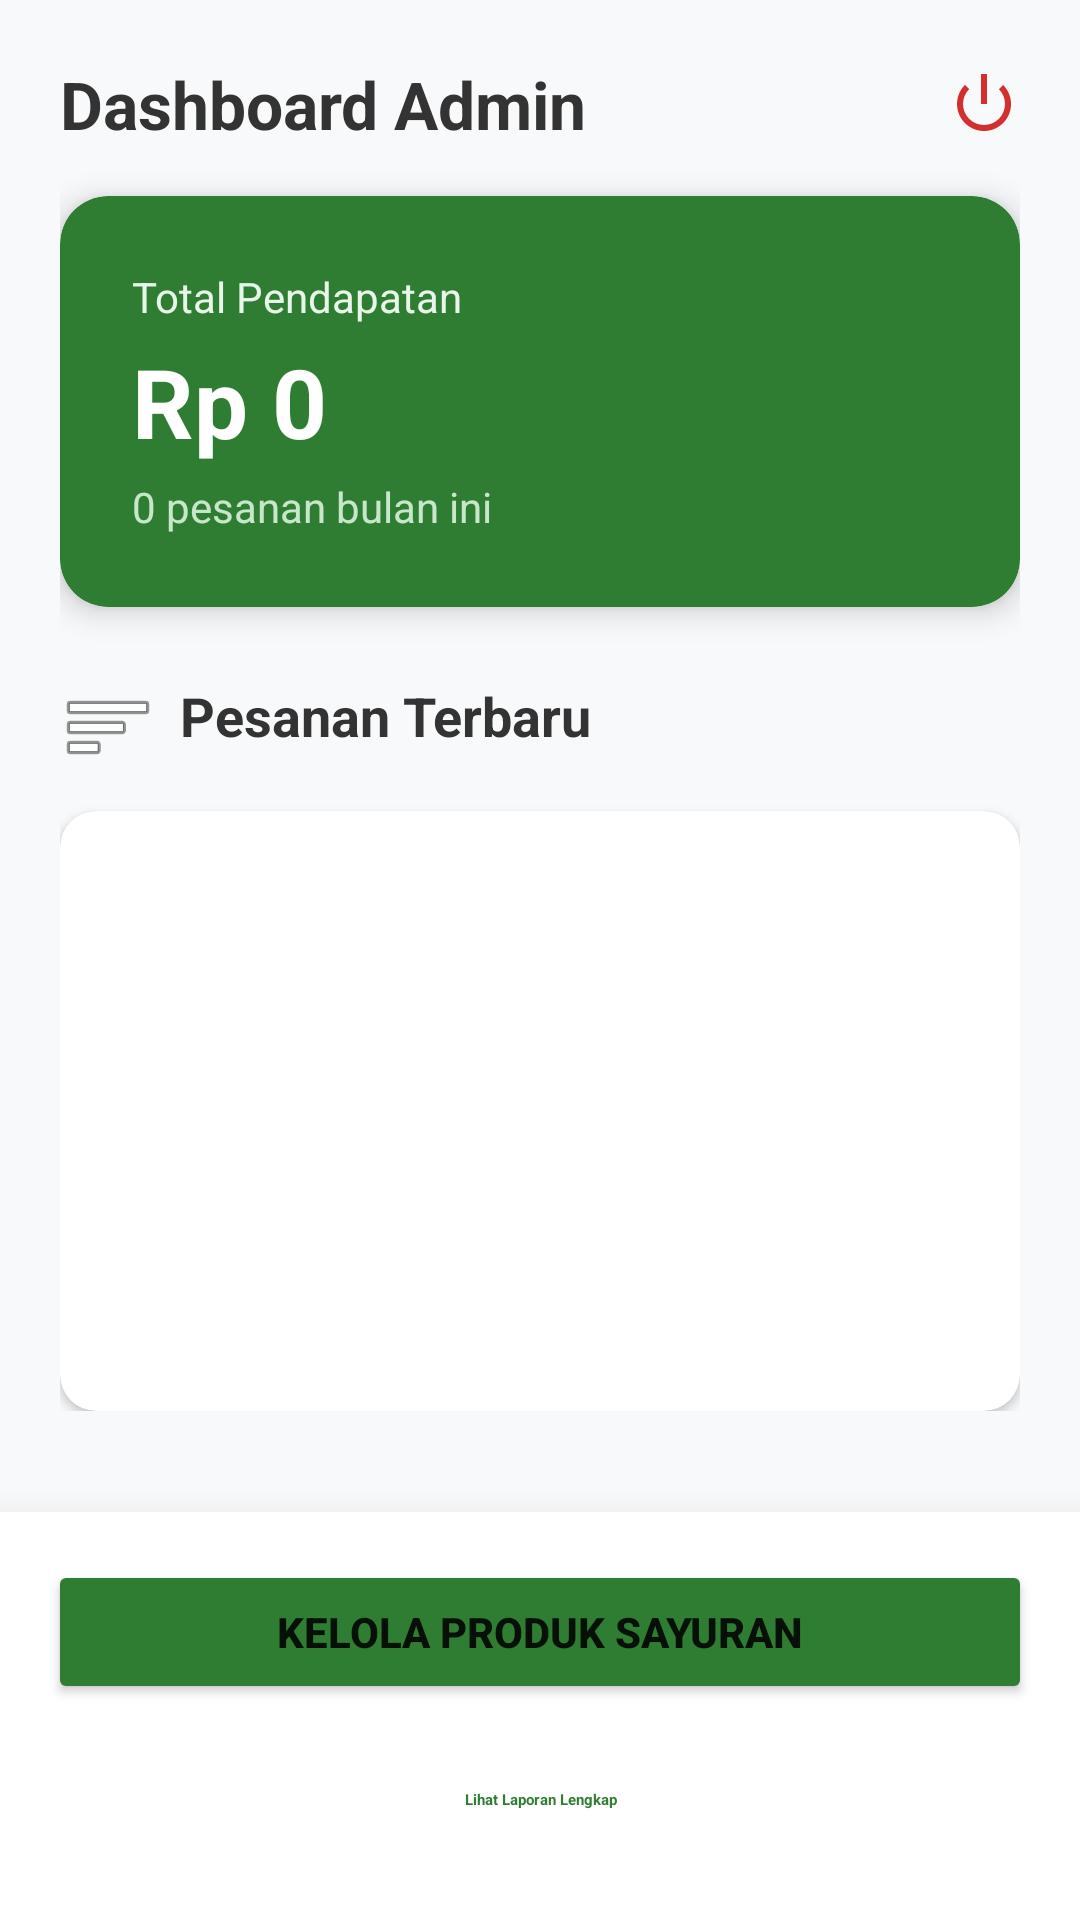

Screen size 1080x1920. Icon name, then its box in pixels as (x1, y1, x2, y2):
lock power off: (957, 74, 1011, 131)
